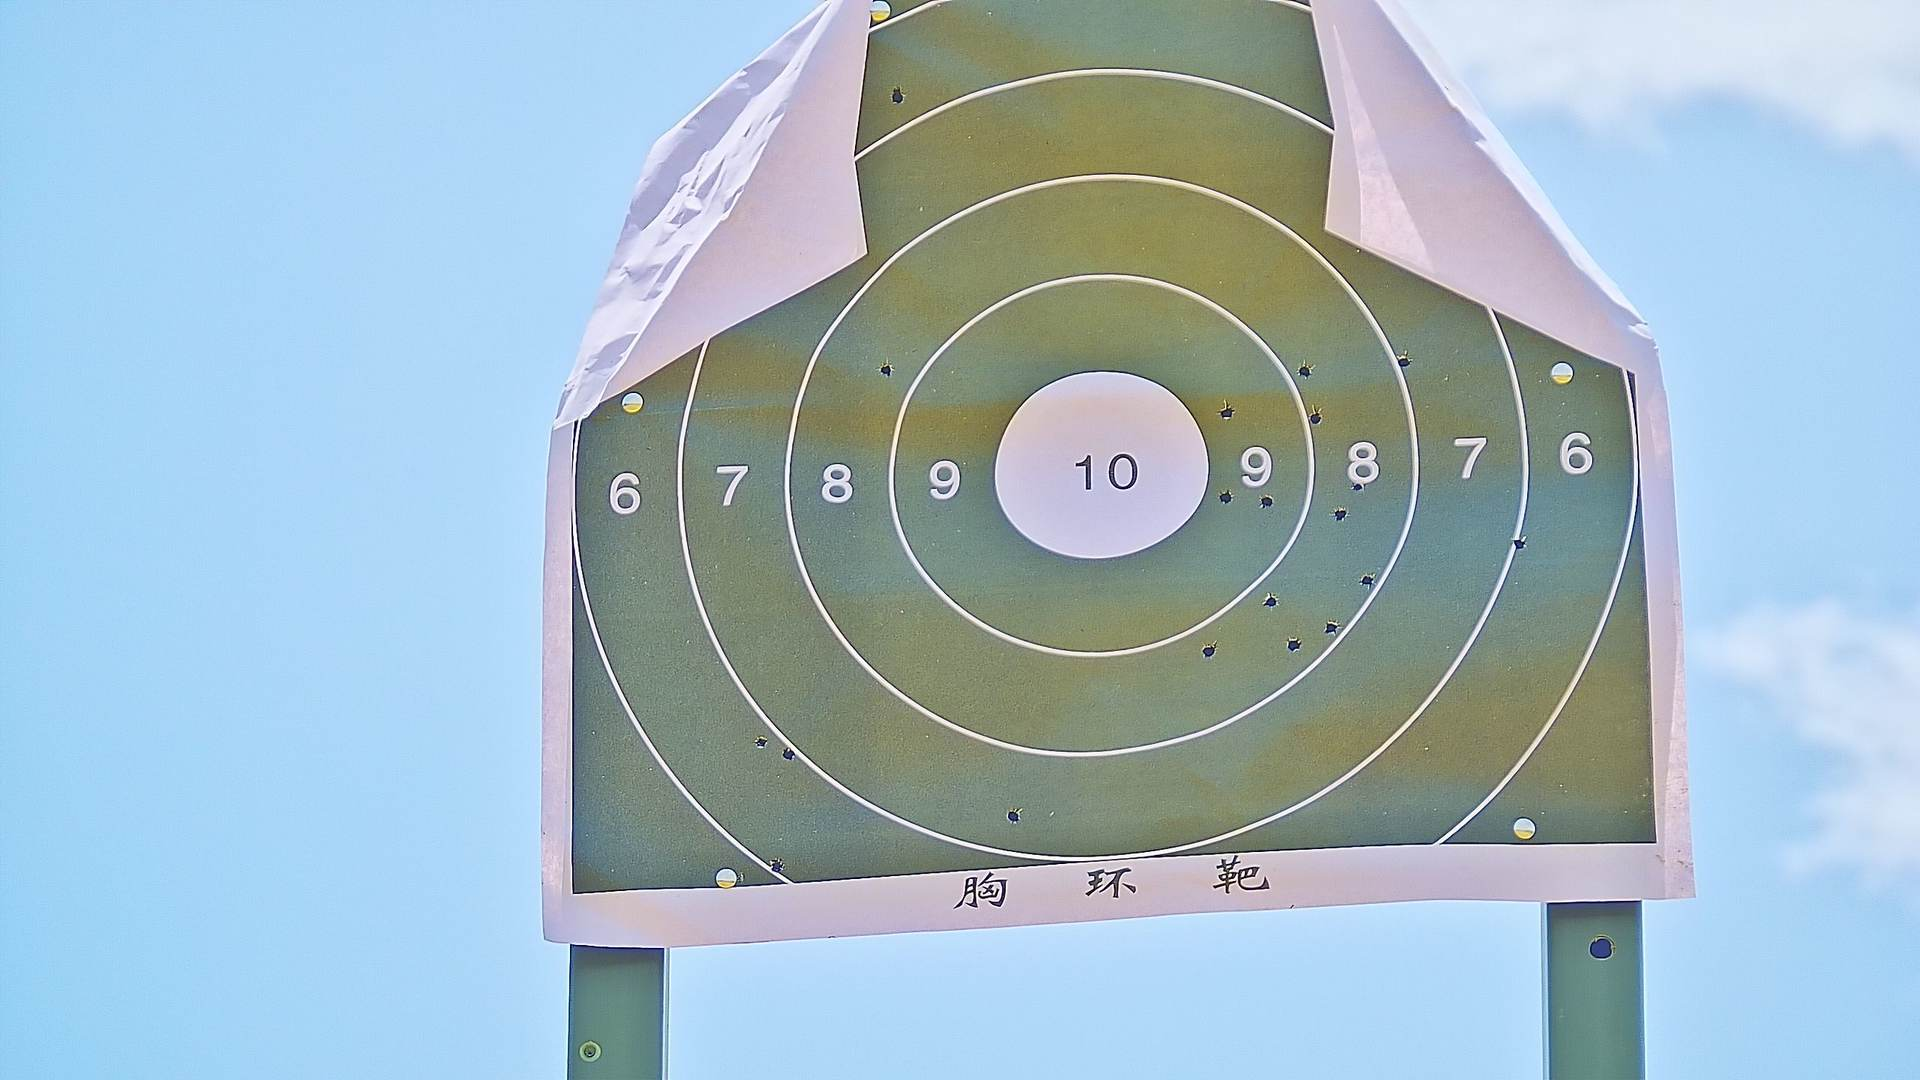hole: (887, 86, 905, 105), (1006, 808, 1026, 824), (1331, 502, 1346, 521), (1308, 409, 1325, 425), (1203, 641, 1217, 659), (1298, 360, 1312, 378), (876, 361, 895, 375), (1218, 491, 1236, 505), (1262, 495, 1276, 512), (1513, 538, 1527, 555), (769, 857, 785, 872), (1395, 352, 1410, 367), (1352, 477, 1367, 491), (1287, 636, 1300, 651), (1360, 574, 1373, 589), (783, 746, 796, 761), (1220, 404, 1234, 417), (1265, 593, 1279, 607), (1325, 621, 1338, 636), (756, 736, 767, 746)
kernel: (1095, 472, 1102, 477)
target: (567, 13, 1659, 901)
ten: (992, 367, 1207, 564)
